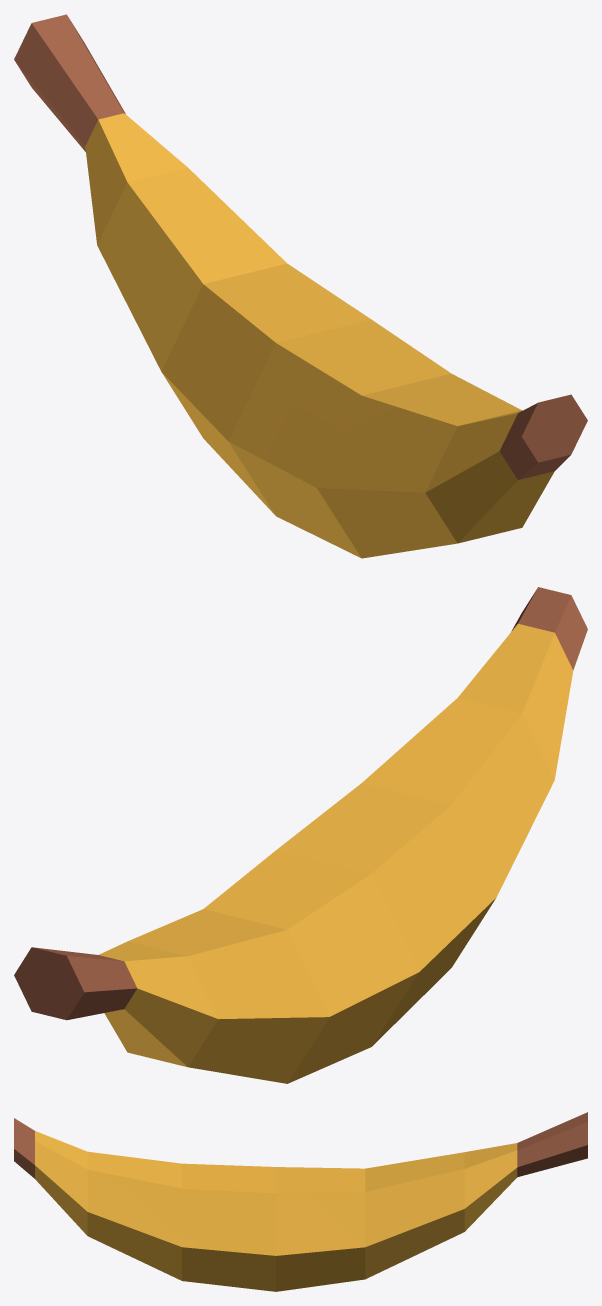
File: banana.obj
3 views of the same model, one above another, from view 1: azimuth 30°, elevation 25°; view 2: azimuth 150°, elevation 25°; view 3: azimuth 270°, elevation 25° (orthographic). The views are drawn at different scales.
Visible parts, largest first — view 1: banana; view 2: banana; view 3: banana.
Part boxes in pixels (x1=…): banana: x1=14, y1=14, x2=587, y2=558; banana: x1=14, y1=587, x2=587, y2=1083; banana: x1=14, y1=1112, x2=587, y2=1291.
Bounding box in the file's own units: 0.1376 × 0.1958 × 0.6299.
